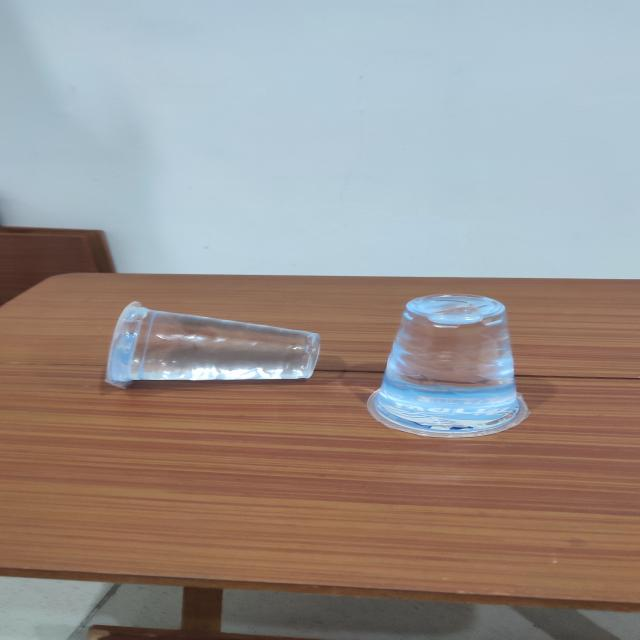air gelas: (352, 286, 544, 442), (112, 292, 321, 404)
